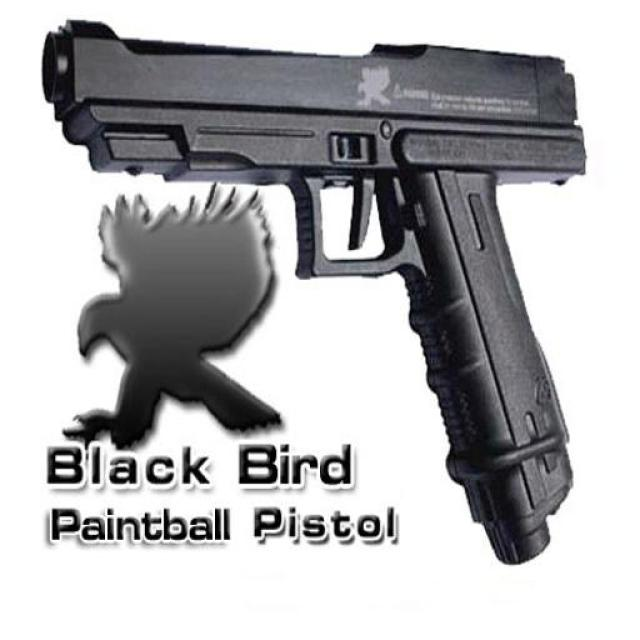pistol: (40, 16, 587, 565)
